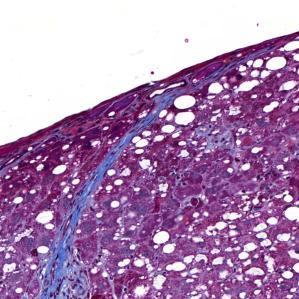fibrosis: (50, 243, 95, 299)
